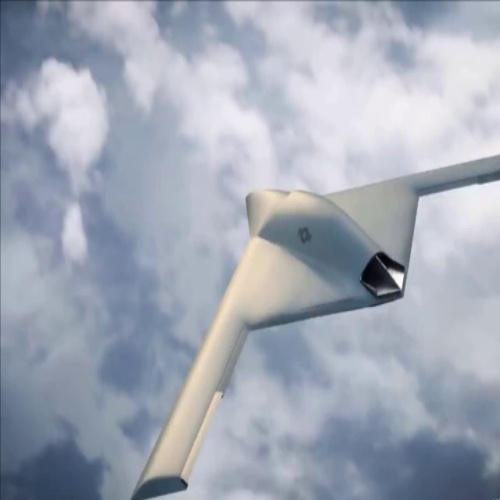uav986: (131, 149, 500, 498)
